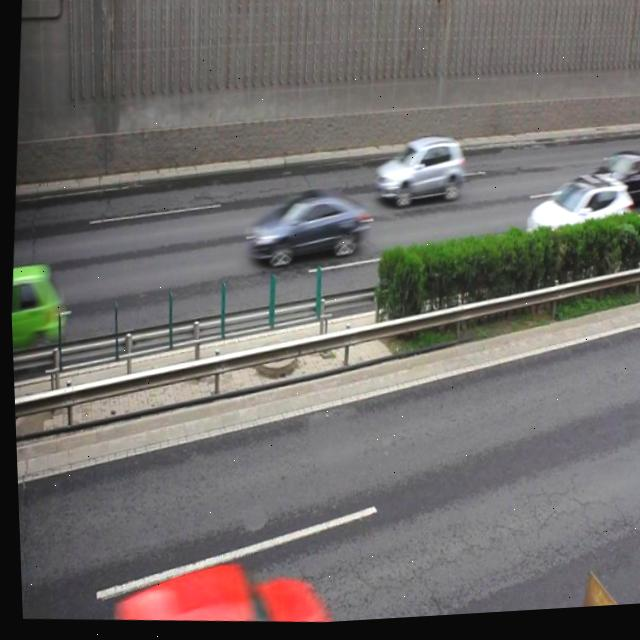car: (119, 555, 314, 634), (243, 188, 367, 277), (519, 177, 632, 257), (371, 131, 465, 215), (8, 264, 67, 358), (583, 153, 640, 214)
